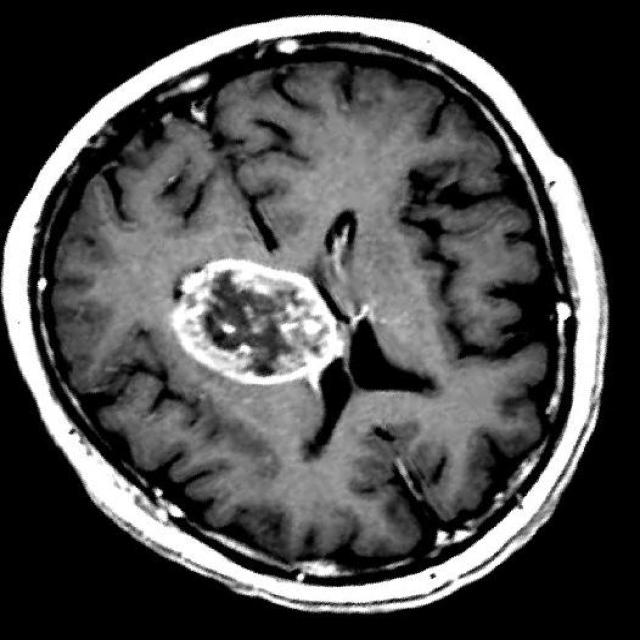Tumor-Cell: (173, 247, 345, 402)
